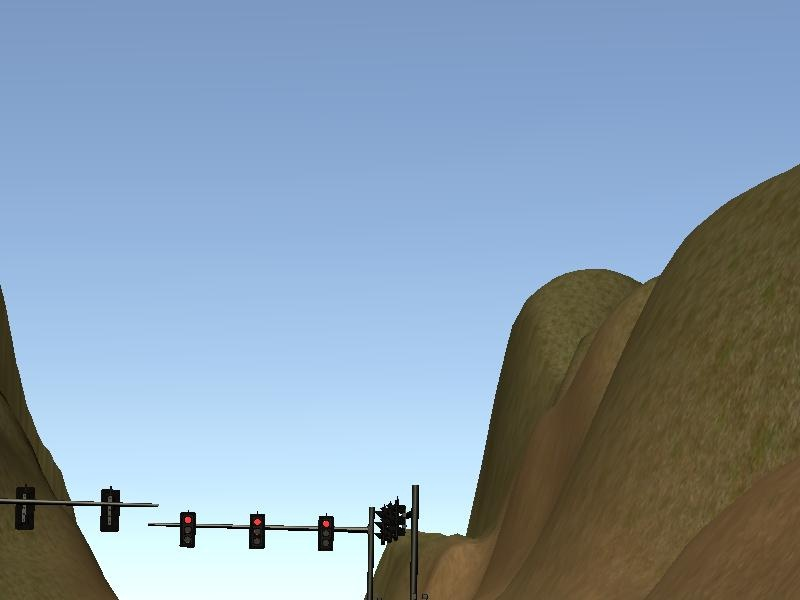red: (248, 514, 266, 550), (180, 511, 196, 550), (316, 517, 333, 550)
